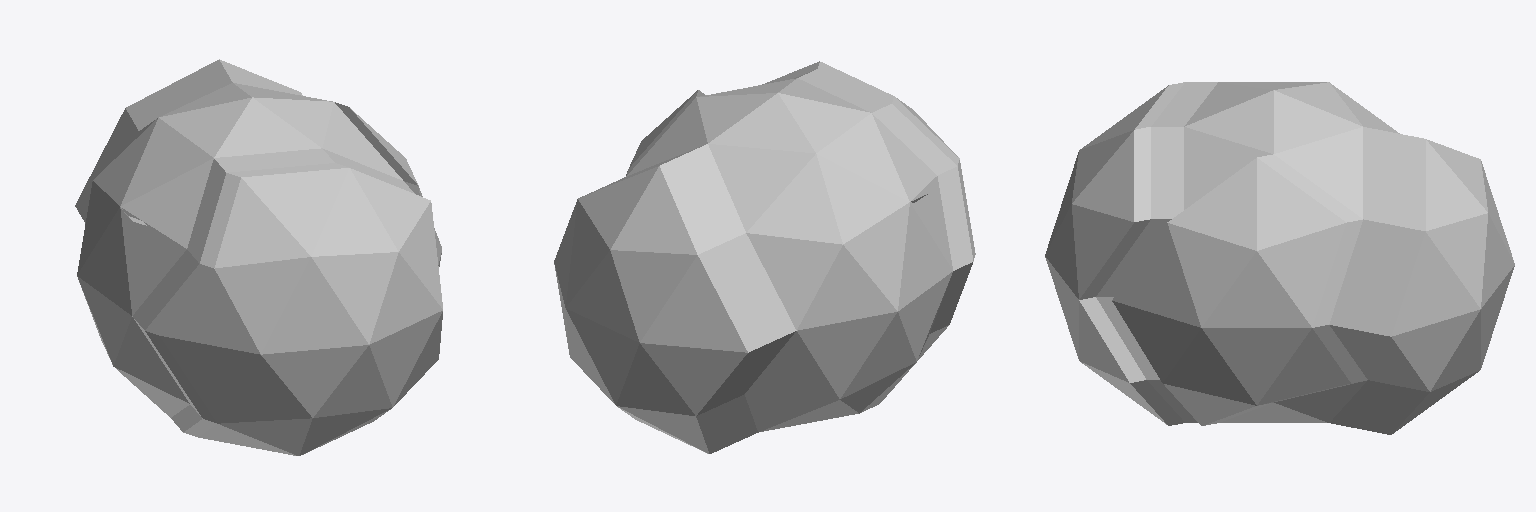
Rendered from rock 2 for midterm.obj.
3 renders of one model, left to right at view 1: azimuth 30°, elevation 25°; view 2: azimuth 150°, elevation 25°; view 3: azimuth 270°, elevation 25°, orthographic.
Visible parts, largest first — view 1: Icosphere; view 2: Icosphere; view 3: Icosphere.
Boxes of the visible parts, box(x1,y1,x2,y2) form: Icosphere: box(75, 59, 442, 455); Icosphere: box(554, 61, 975, 453); Icosphere: box(1045, 82, 1514, 434).
Bounding box in the file's own units: 1.15 × 1.12 × 1.47.